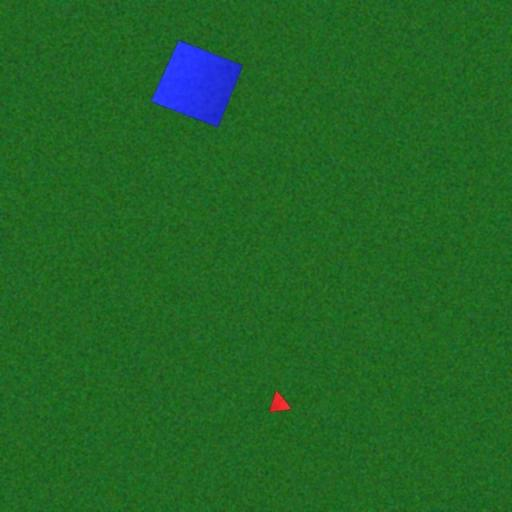BLUE_SQUARE: (150, 39, 243, 128)
